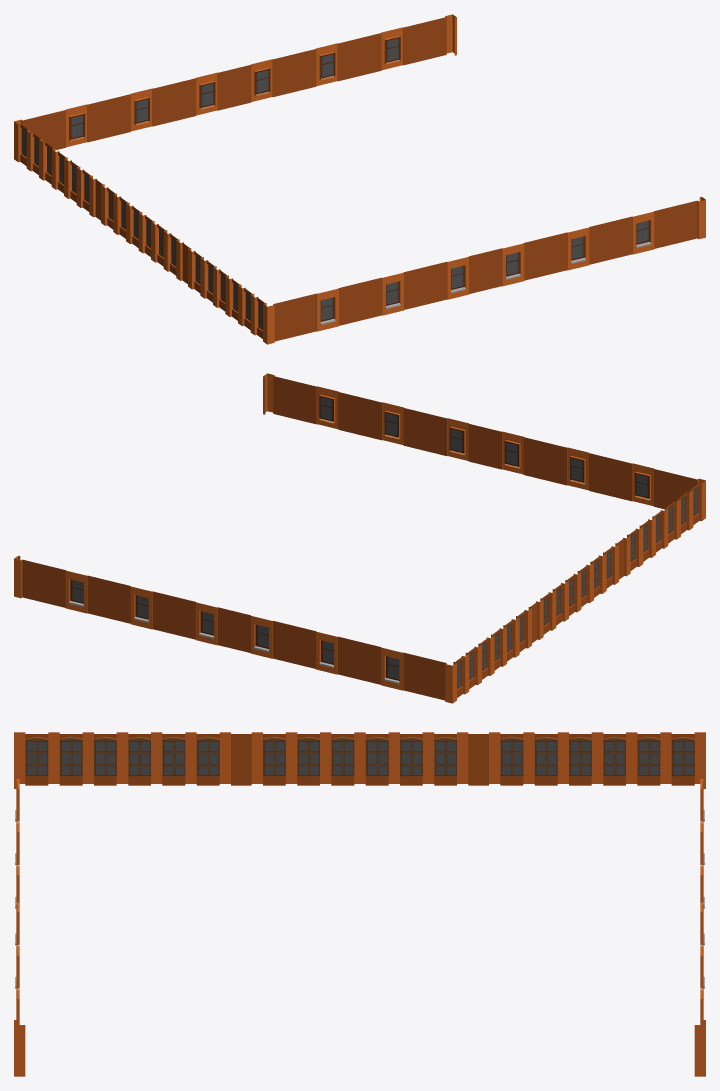
The model's file is BuildingBig1_2.fbx.
The picture shows the model from 3 angles, top to bottom: view 1: azimuth 30°, elevation 25°; view 2: azimuth 150°, elevation 25°; view 3: azimuth 270°, elevation 25°; orthographic projection. The views are drawn at different scales.
Visible parts, largest first — view 1: BuildingBig1_2; view 2: BuildingBig1_2; view 3: BuildingBig1_2.
Boxes of the visible parts, box(x1,y1,x2,y2) form: BuildingBig1_2: box(14, 14, 705, 344); BuildingBig1_2: box(14, 373, 705, 703); BuildingBig1_2: box(14, 732, 705, 1076).
Bounding box in the file's own units: 6060 × 500 × 6060.
